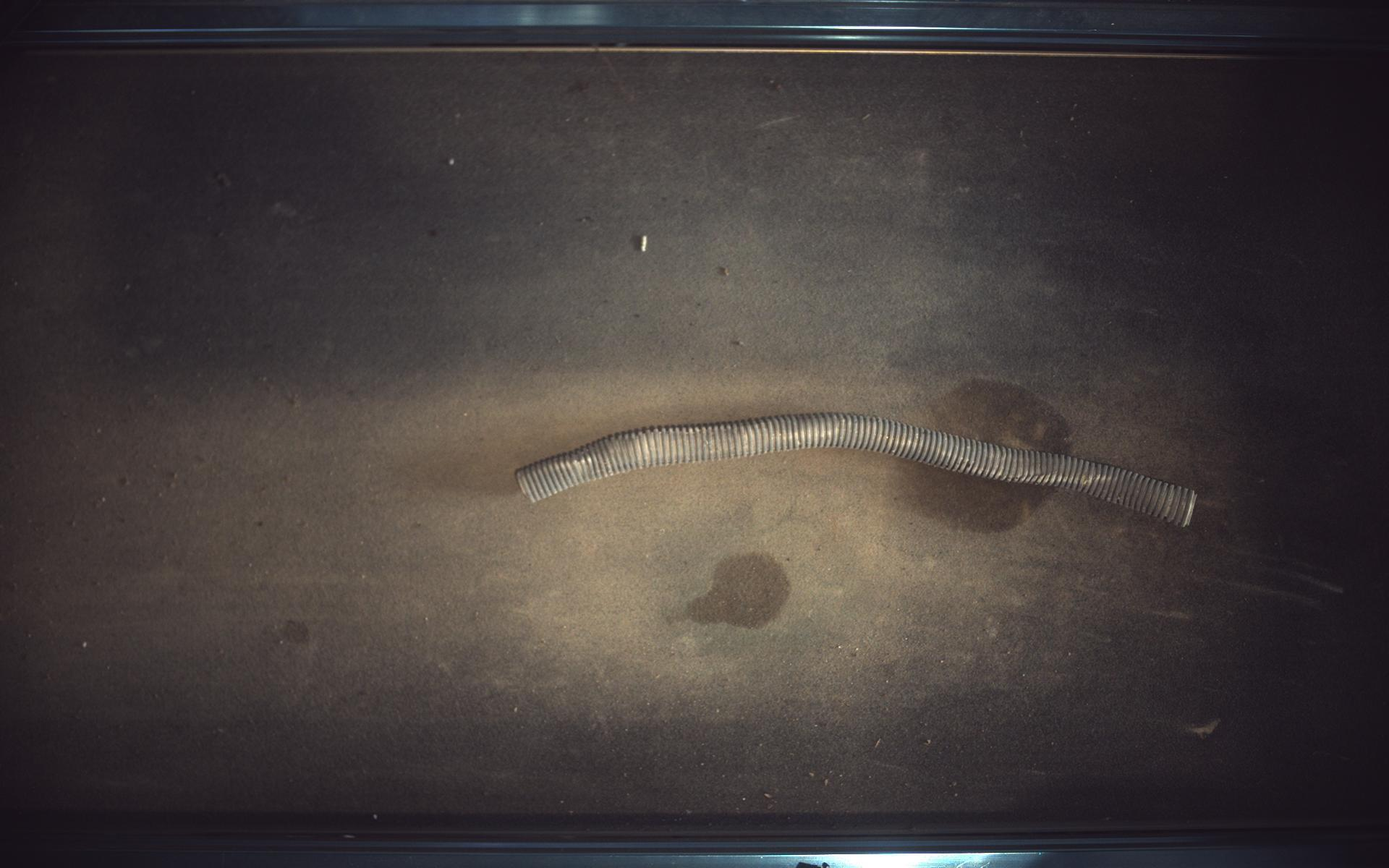pipes: (516, 414, 1199, 528)
